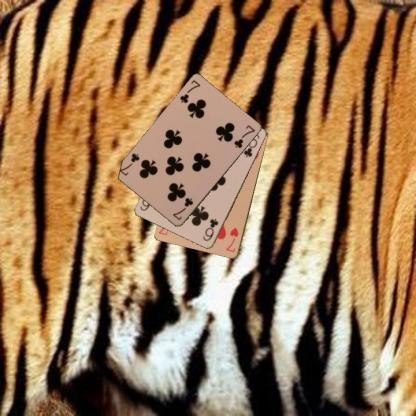6c: (200, 216, 219, 243)
7c: (170, 195, 195, 222), (177, 78, 202, 105)
7h: (223, 224, 240, 254)
